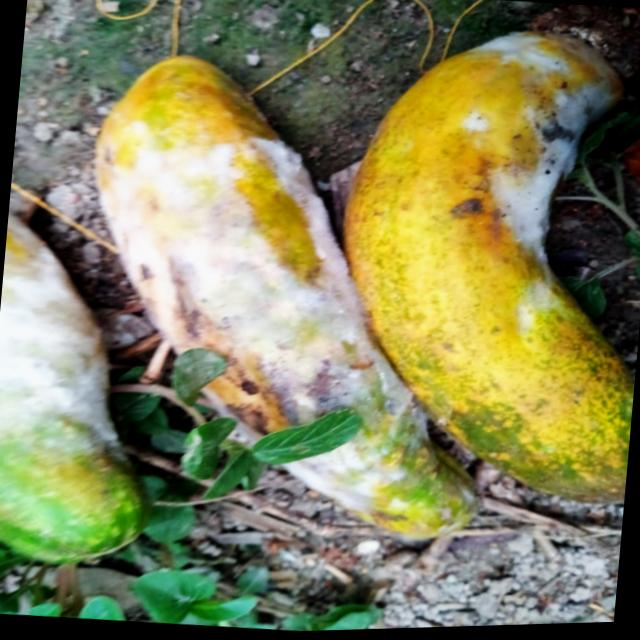Pythium-Fruit-Rot: (69, 113, 434, 521), (436, 24, 621, 345), (0, 240, 135, 470)
